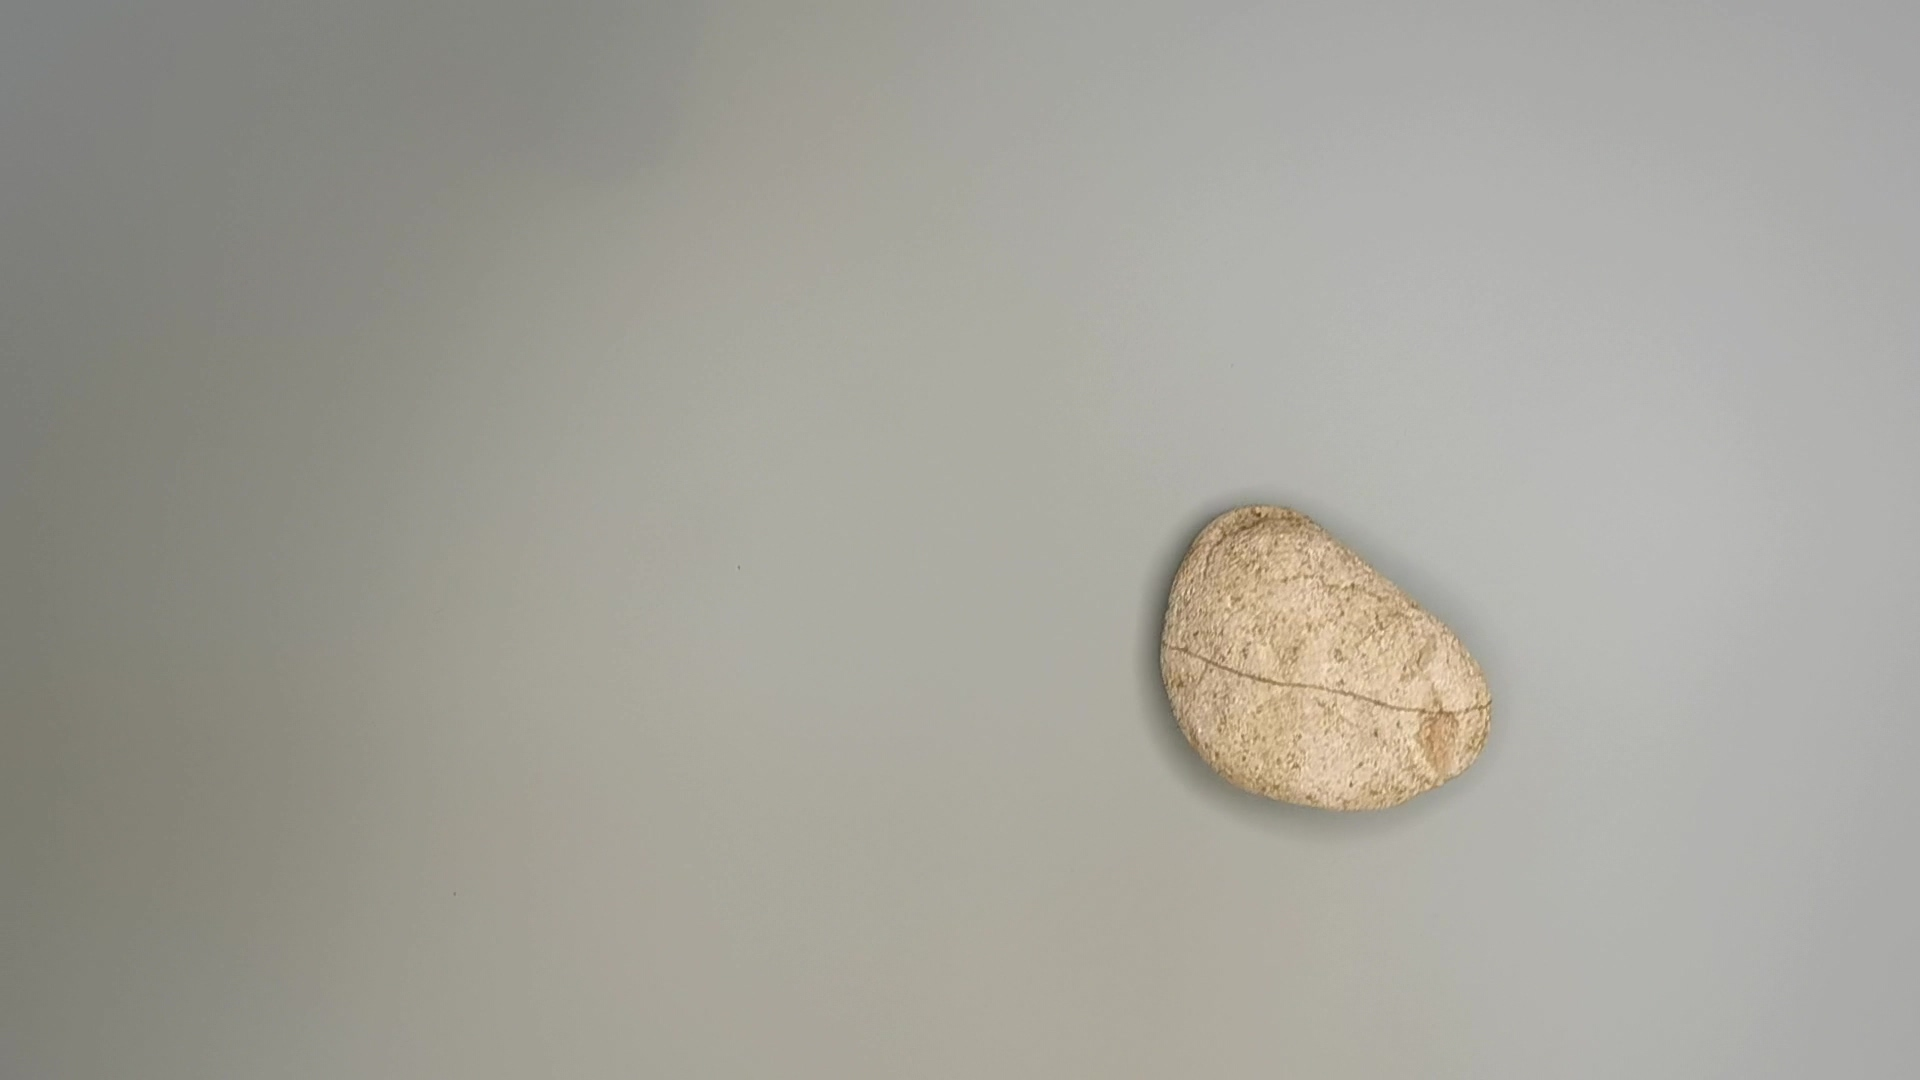ceramic: (1153, 497, 1497, 816)
